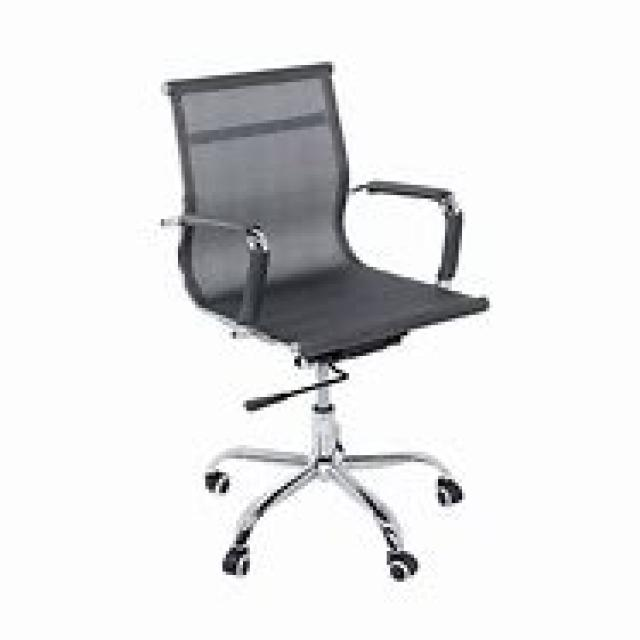chair: (158, 58, 490, 582)
